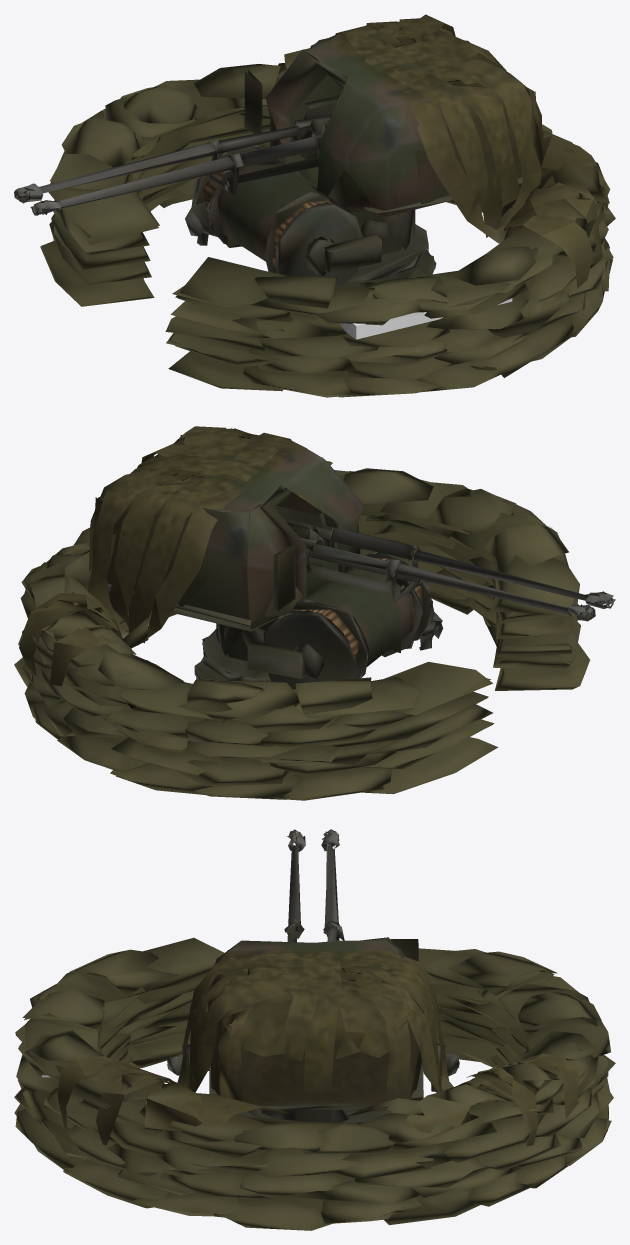
File: cn-gattling-nest.glb
The picture shows the model from 3 angles, top to bottom: view 1: azimuth 30°, elevation 25°; view 2: azimuth 150°, elevation 25°; view 3: azimuth 270°, elevation 25°; orthographic projection. The views are drawn at different scales.
Visible parts, largest first — view 1: cn-gattling-nest, turret; view 2: cn-gattling-nest, turret; view 3: cn-gattling-nest, turret.
Part boxes in pixels (x1=…): cn-gattling-nest: x1=40, y1=63, x2=615, y2=397; turret: x1=14, y1=14, x2=598, y2=235; cn-gattling-nest: x1=14, y1=461, x2=589, y2=800; turret: x1=29, y1=426, x2=615, y2=648; cn-gattling-nest: x1=14, y1=937, x2=615, y2=1230; turret: x1=76, y1=829, x2=564, y2=1120.
Size of the model in its own units: 1.72 by 0.63 by 1.72.
Materials: 2 (1 with a texture image).
